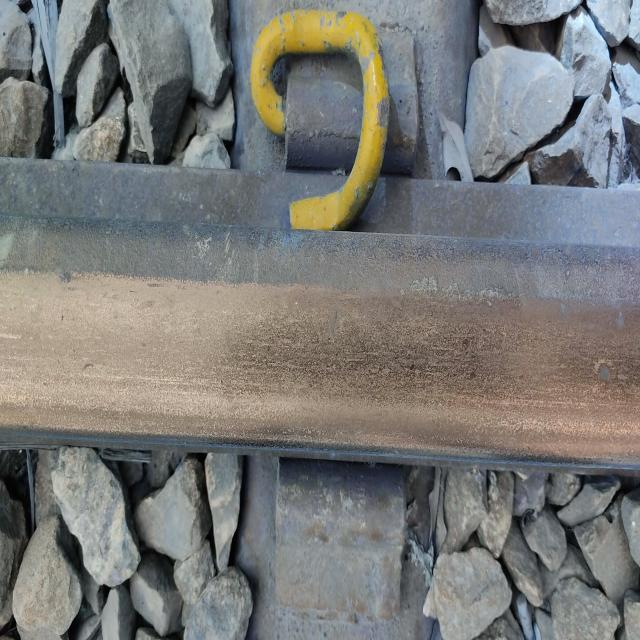Good Fasteners: (250, 10, 418, 230)
Missing Fastener: (231, 453, 432, 640)
